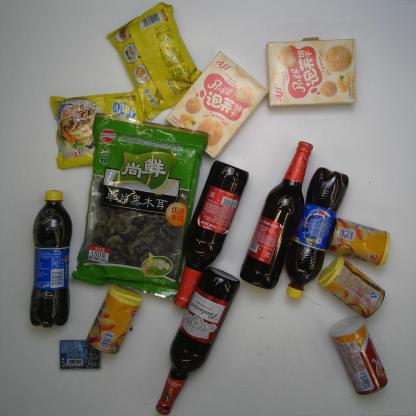Alcohol: (155, 265, 241, 416), (238, 139, 315, 292), (172, 160, 250, 310)
Canned Food: (329, 315, 388, 396), (318, 255, 386, 319), (85, 283, 144, 355), (326, 217, 391, 268)
Dessert: (164, 49, 268, 161), (264, 35, 358, 110)
Dried Food: (68, 111, 210, 302)
Drink: (284, 166, 350, 300), (28, 189, 74, 329)
Gum: (58, 339, 102, 370)
Instant Noodles: (106, 0, 202, 121), (49, 87, 148, 171)
